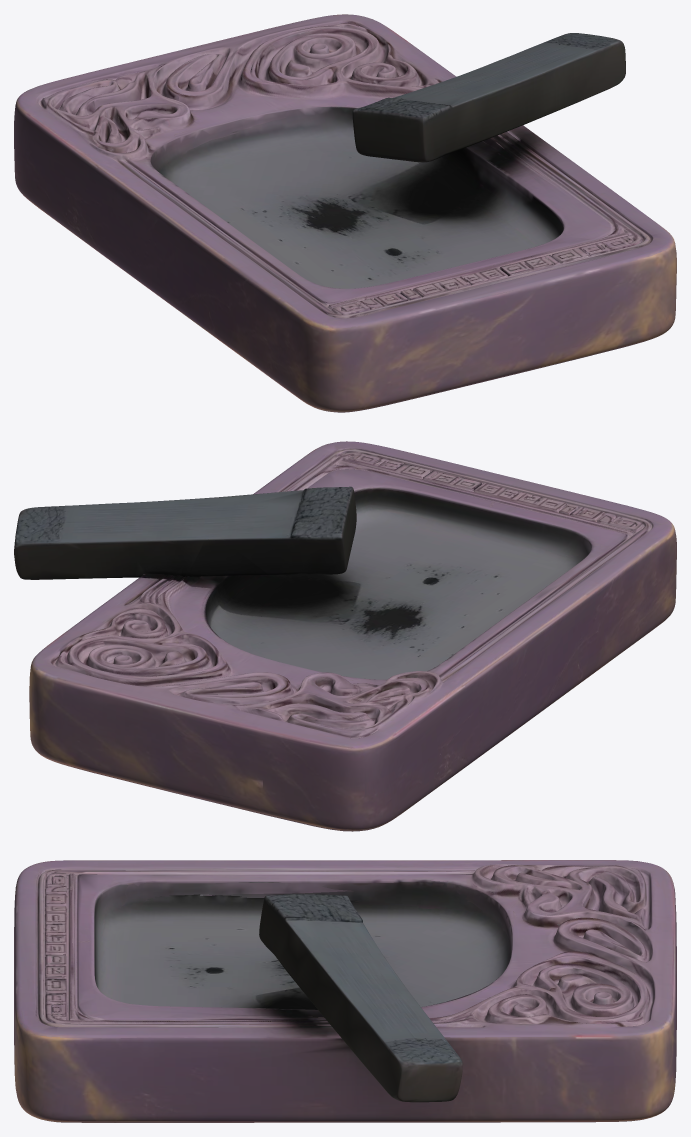
Rendered from inkstone.glb.
3 views of the same model, one above another, from view 1: azimuth 30°, elevation 25°; view 2: azimuth 150°, elevation 25°; view 3: azimuth 270°, elevation 25° (orthographic). The views are drawn at different scales.
Parts seen in each view (by area): view 1: pivot; view 2: pivot; view 3: pivot.
Boxes of the visible parts, x1,y1,x2,y2 form: pivot: (14, 14, 676, 412); pivot: (14, 441, 676, 831); pivot: (14, 860, 676, 1122).
Bounding box in the file's own units: 1.63 × 0.5175 × 1.9.
Materials: 1 (1 with a texture image).
